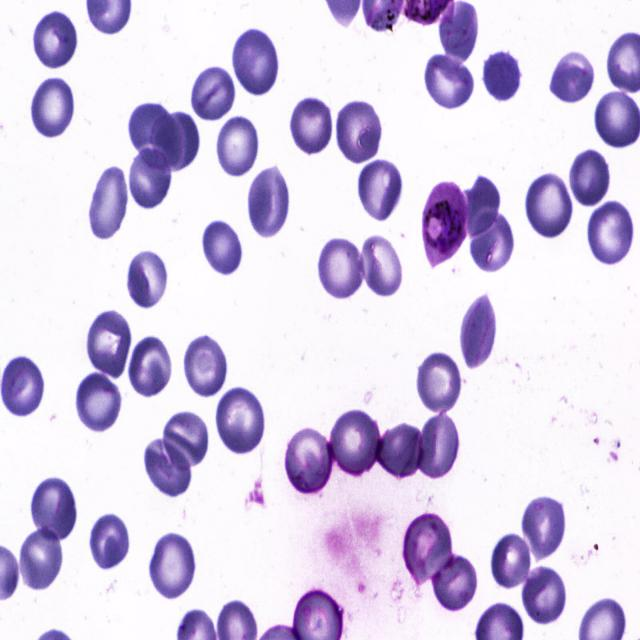difficult: (421, 181, 470, 270)
red blood cell: (401, 512, 455, 590), (215, 385, 268, 457), (128, 103, 184, 171), (524, 167, 574, 243), (284, 422, 334, 498), (229, 26, 281, 99), (328, 406, 382, 476), (148, 531, 200, 602), (29, 472, 80, 543), (586, 198, 636, 268), (316, 234, 366, 303), (459, 288, 499, 374), (416, 344, 464, 413), (86, 307, 130, 382), (18, 524, 66, 592), (74, 369, 124, 434), (336, 99, 383, 167), (416, 409, 461, 480), (247, 164, 290, 238), (356, 157, 404, 223), (143, 436, 194, 498), (89, 165, 130, 241), (29, 75, 76, 141), (430, 551, 480, 613), (468, 211, 514, 278), (424, 52, 476, 111), (127, 145, 174, 210), (127, 334, 174, 399), (184, 333, 231, 398), (150, 111, 200, 172), (380, 418, 426, 484), (521, 496, 567, 560), (32, 8, 79, 70), (215, 115, 262, 177), (0, 355, 46, 418), (458, 175, 504, 238), (125, 246, 170, 310), (359, 233, 404, 297), (189, 64, 236, 125), (522, 566, 568, 627), (290, 92, 334, 155), (202, 216, 246, 278), (439, 0, 482, 63), (567, 149, 612, 208), (549, 50, 595, 106), (162, 410, 209, 464), (487, 534, 532, 589), (88, 513, 132, 569), (482, 49, 520, 101)
